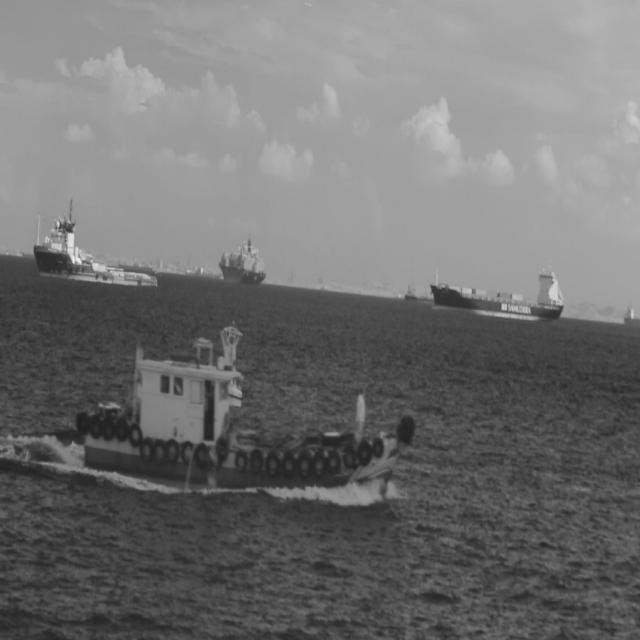buoy: (222, 317, 244, 409)
ship: (75, 332, 417, 511), (31, 196, 159, 289), (429, 255, 564, 322), (217, 232, 267, 286), (405, 280, 434, 304), (184, 264, 223, 280), (118, 260, 152, 272), (150, 268, 162, 277)
